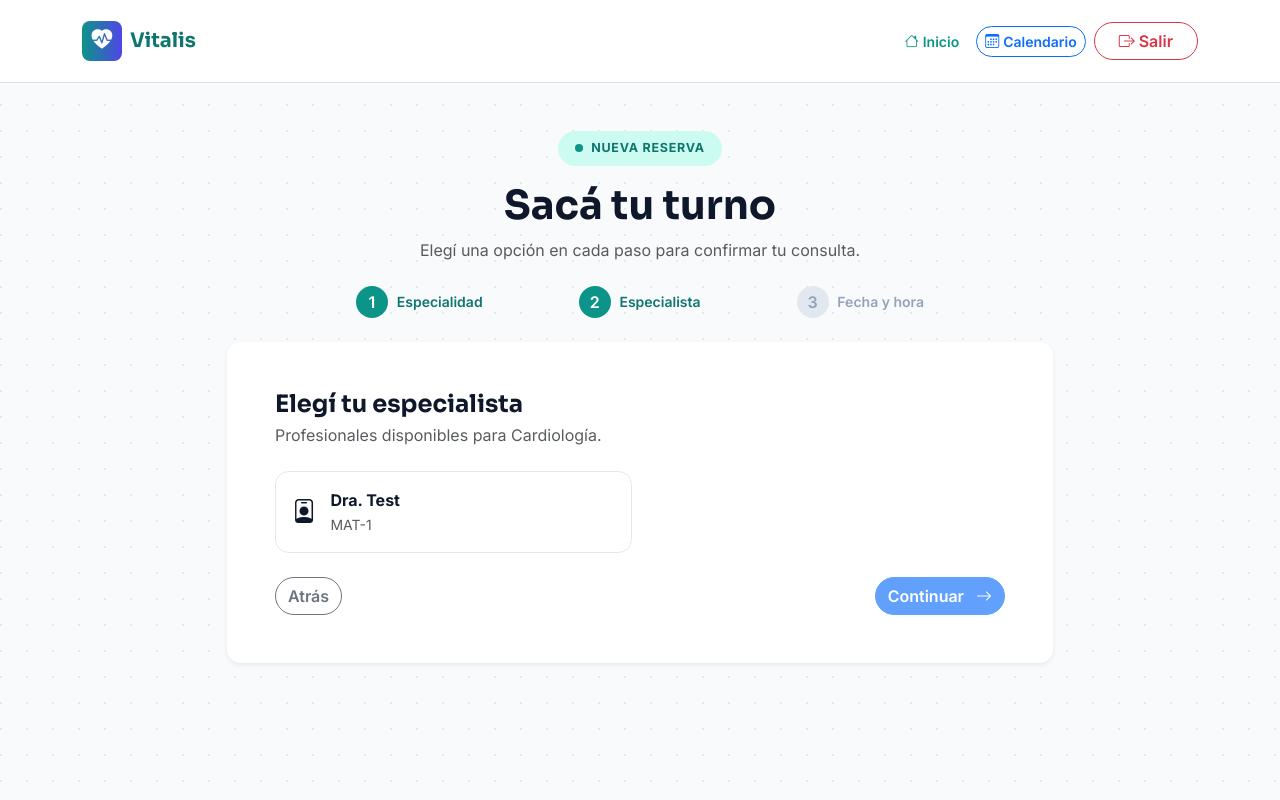
Test: SacarTurno › oculta horarios que se solapan con otros turnos del paciente
This screenshot has width=1280, height=800.
Expected: the heading "Elegí tu especialista" is shown, [275,389,523,419]
Click the button "Dra. Test MAT-1" at (365, 500), box [275,470,632,552]
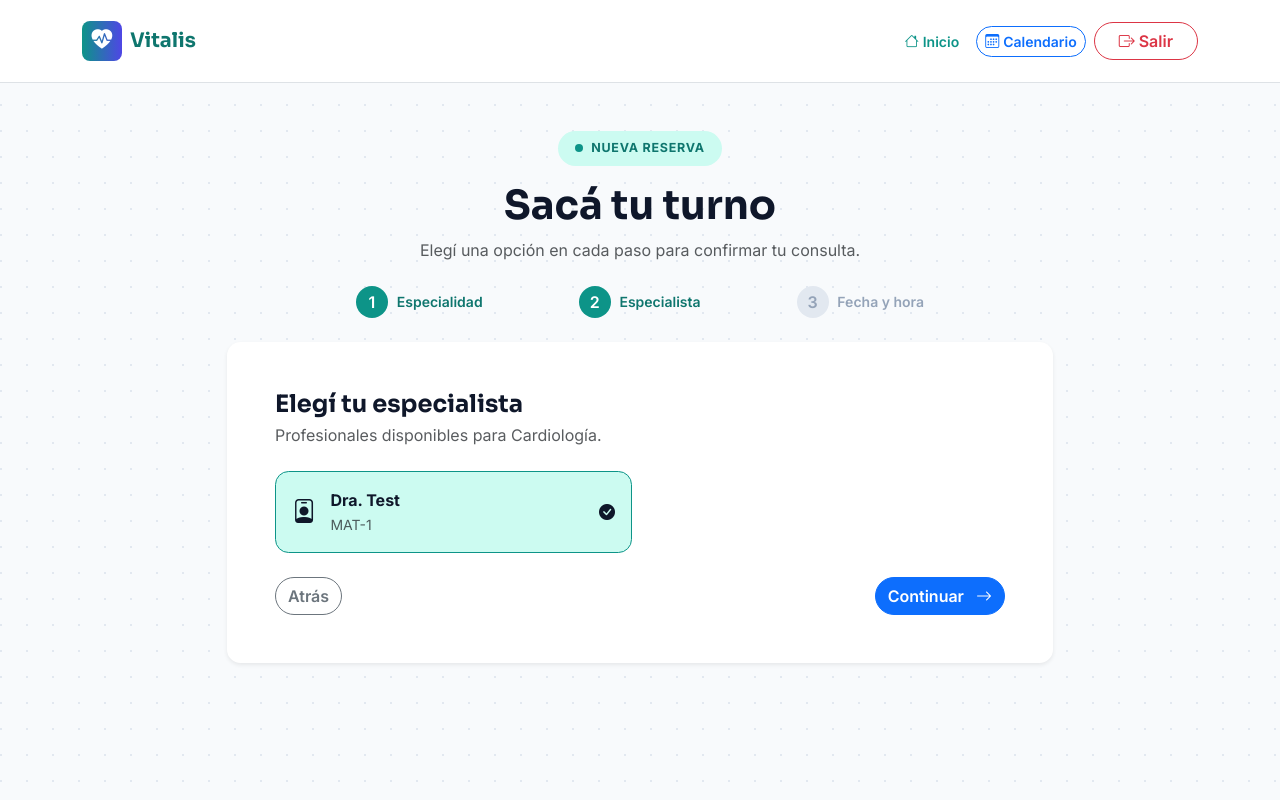
Click the button "Continuar" at (940, 596), box [875,576,1005,614]
(page scrolled)
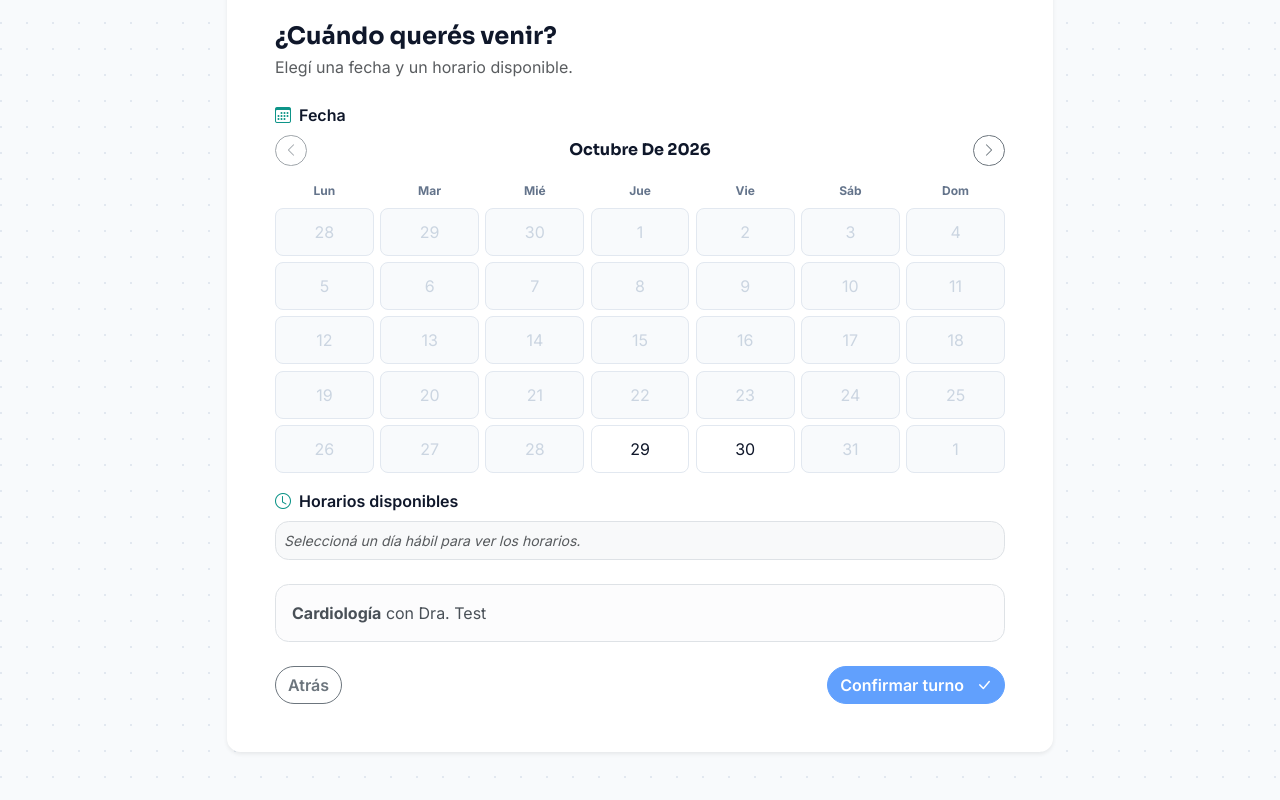
Click the 2nd button "30" at (745, 449), box [696,425,795,473]
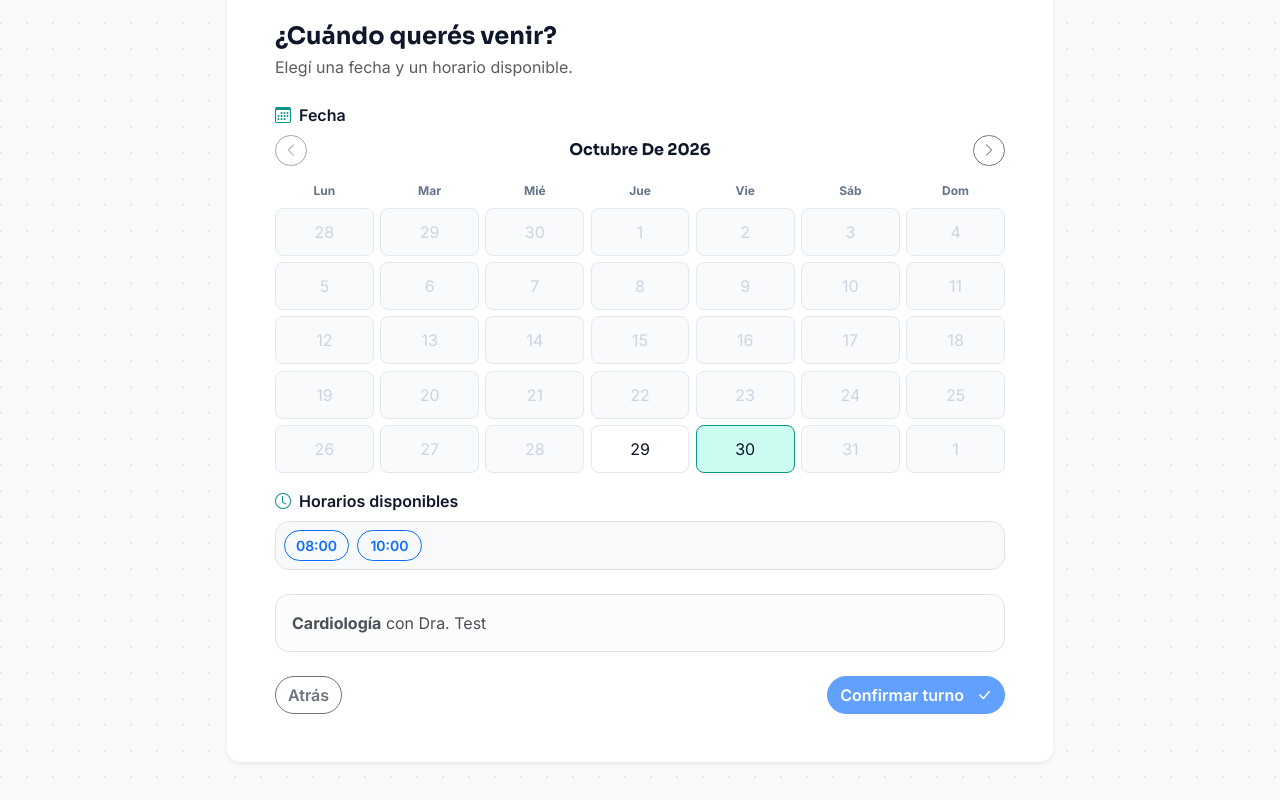
Expected: the button "08:00" is shown, [284,530,349,561]
Expected: the button "10:00" is shown, [357,530,422,561]
